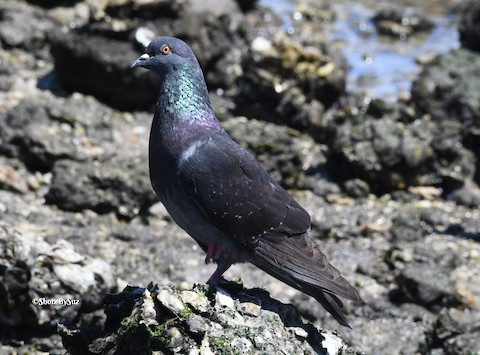pigeon: (120, 33, 383, 333)
